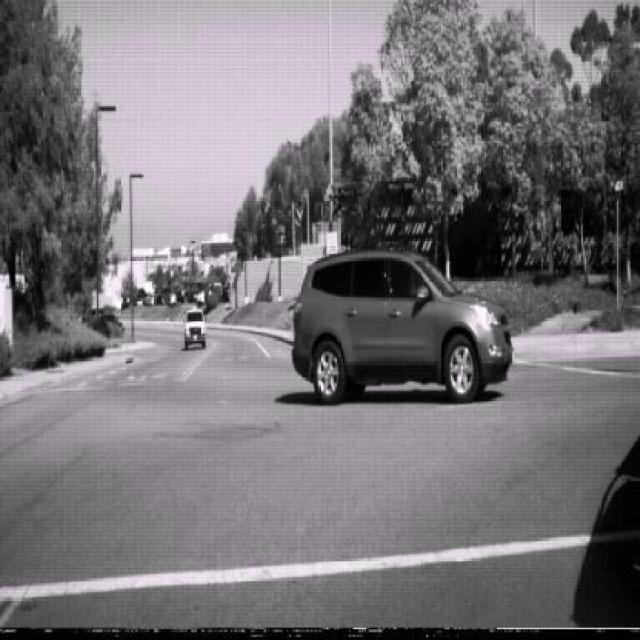speedLimit25: (326, 232, 337, 258)
